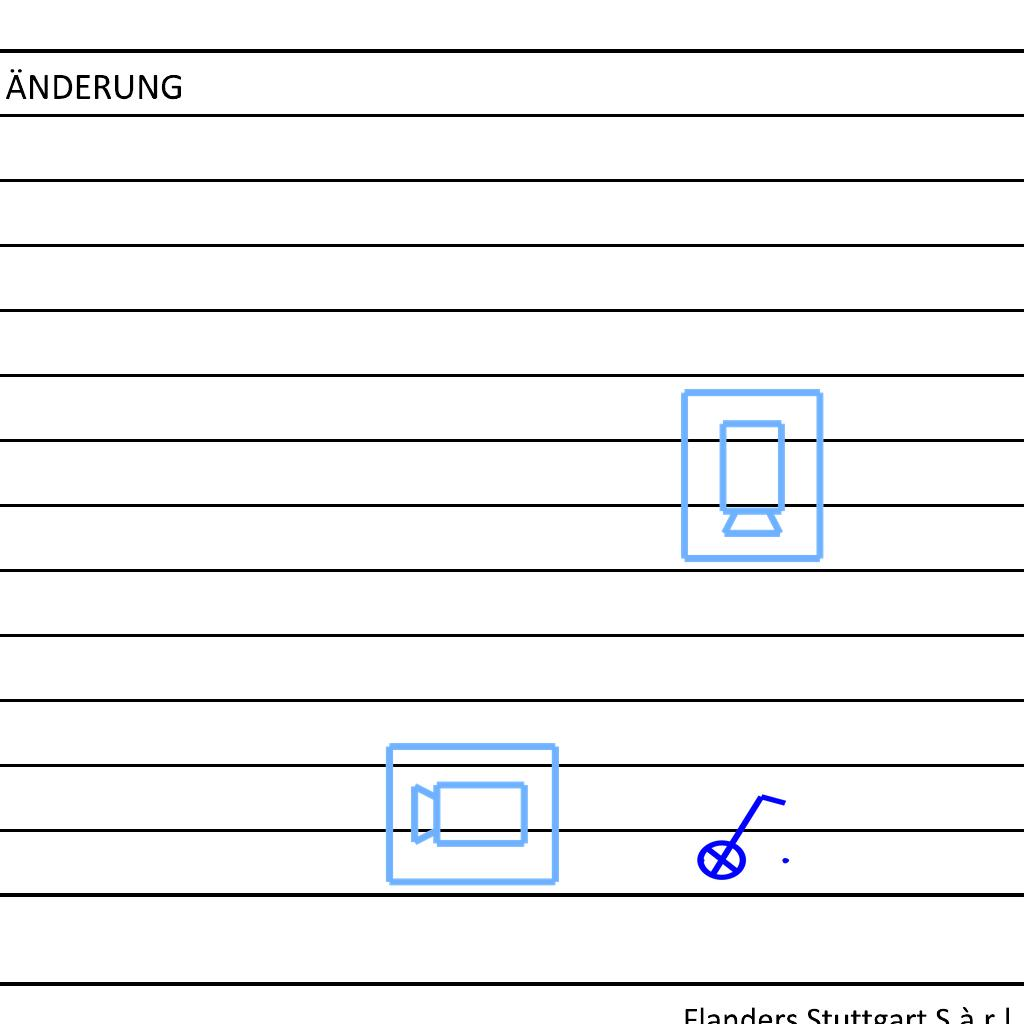Ausschalter_beleuchtet: (683, 786, 795, 882)
KFO_Kamera_mit_Festobjektiv: (382, 736, 564, 890), (674, 384, 828, 566)
